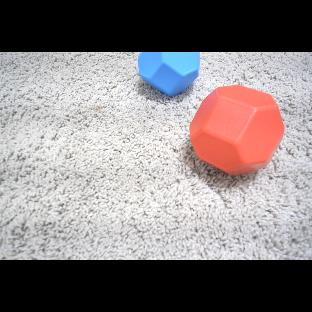V5_BLUE: (137, 52, 202, 95)
V5_RED: (189, 86, 286, 179)
